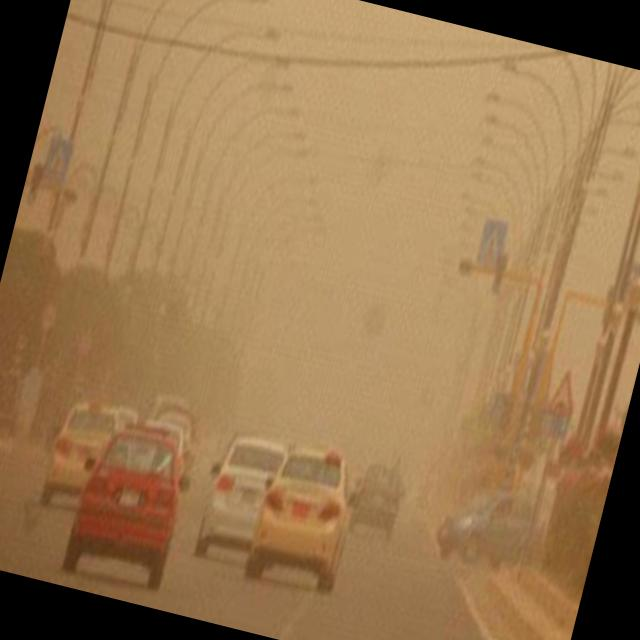car: (62, 417, 204, 592), (240, 434, 366, 597), (192, 426, 291, 568), (37, 393, 132, 518), (431, 475, 544, 576), (345, 455, 412, 544), (137, 417, 196, 482)
